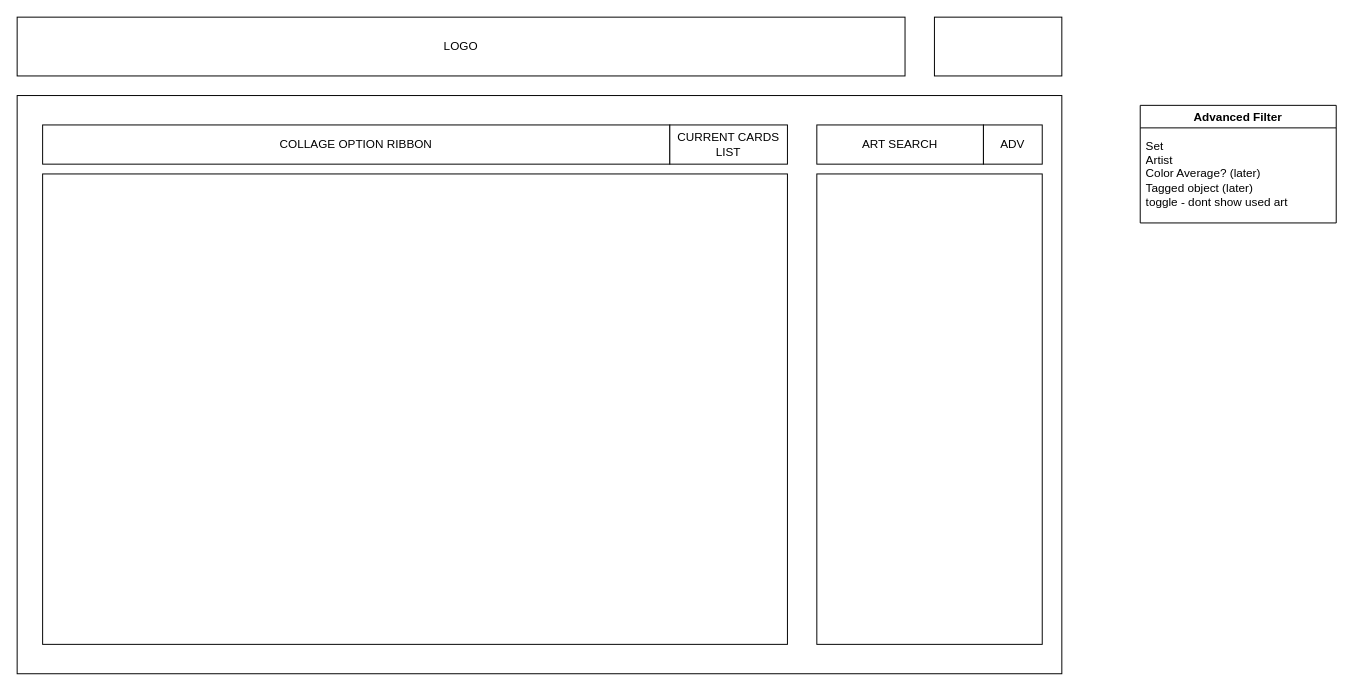
Some shapes in this 1353 by 691 pixel diagram are drawn without their labels. The shapes that lost their labels are listed below. From the top down, each one's box as (x1, y1, x2, y2) in pixels, then its label:
(933, 16, 1062, 76): OPTIONS
(42, 173, 787, 644): COLLAGE CANVAS
(816, 173, 1042, 644): ART
